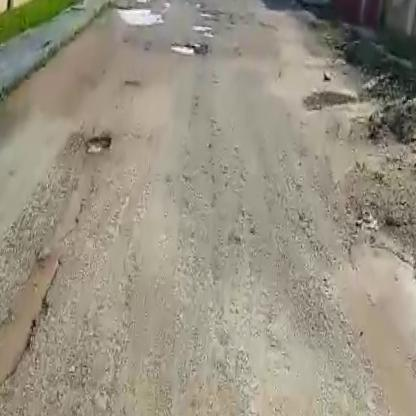pothole: (115, 4, 165, 30), (83, 128, 120, 159), (169, 38, 204, 56)
